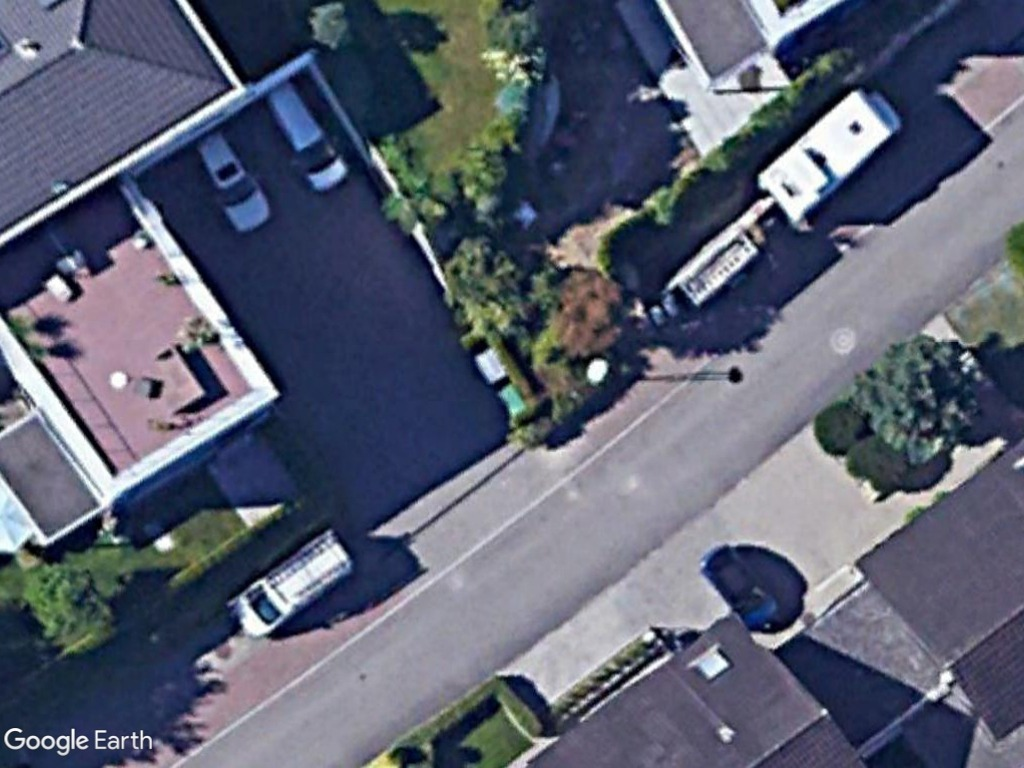car: (262, 80, 352, 195), (192, 130, 274, 230)
van: (228, 526, 354, 641)
